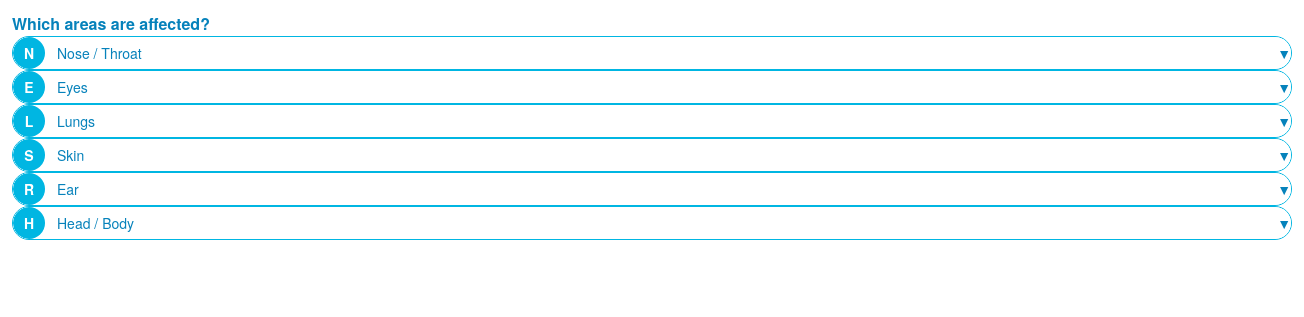
Scenario: SymptomZones › expands a zone when clicked and shows symptoms
// Click the "Eyes" zone header to expand
Click the text "Eyes": (72, 87) [57,77,88,97]
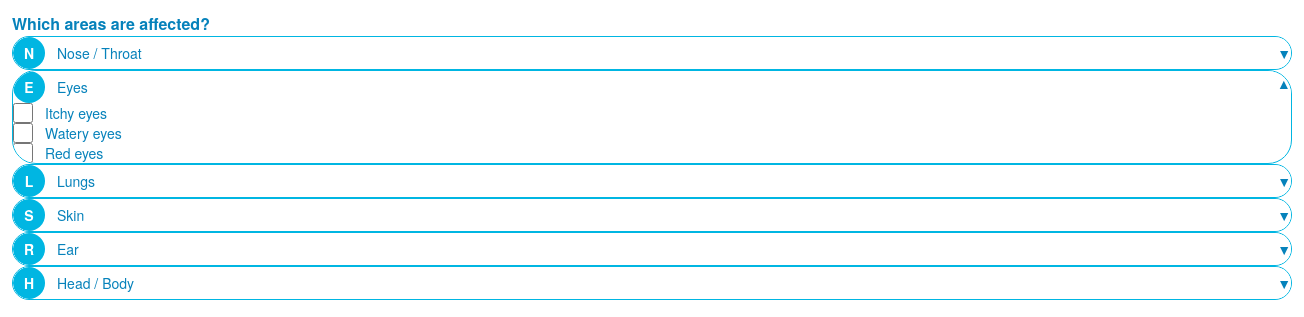
Result: the text "Itchy eyes" is shown at [45,103,107,123]
Result: the text "Watery eyes" is shown at [45,123,122,143]
Result: the text "Red eyes" is shown at [45,143,103,163]
